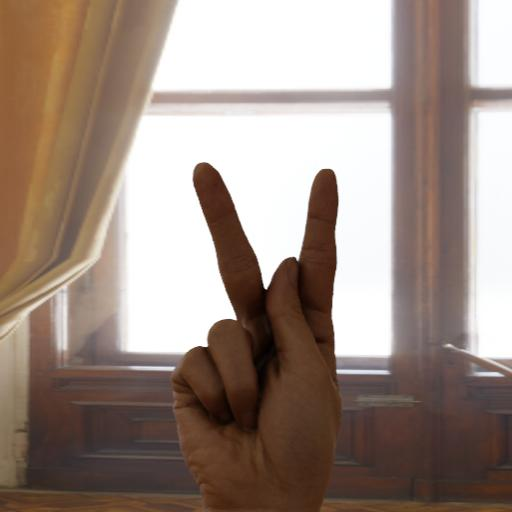K: (166, 157, 346, 510)
